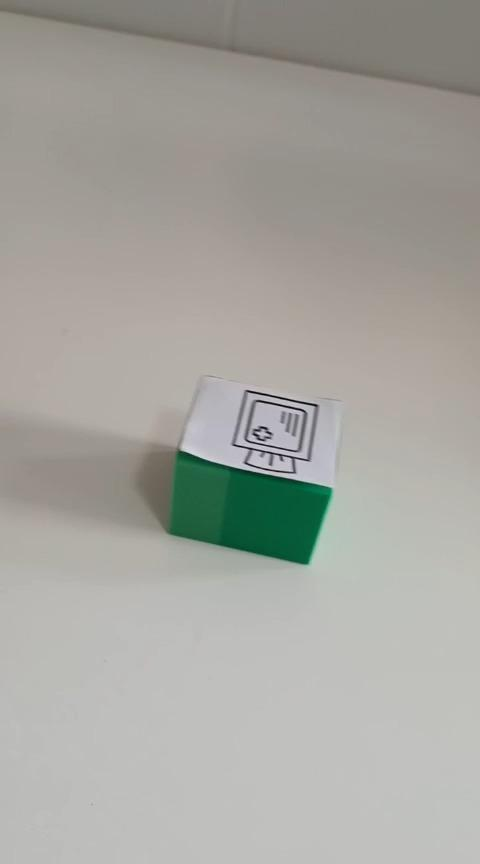Gauze: (166, 373, 344, 565)
